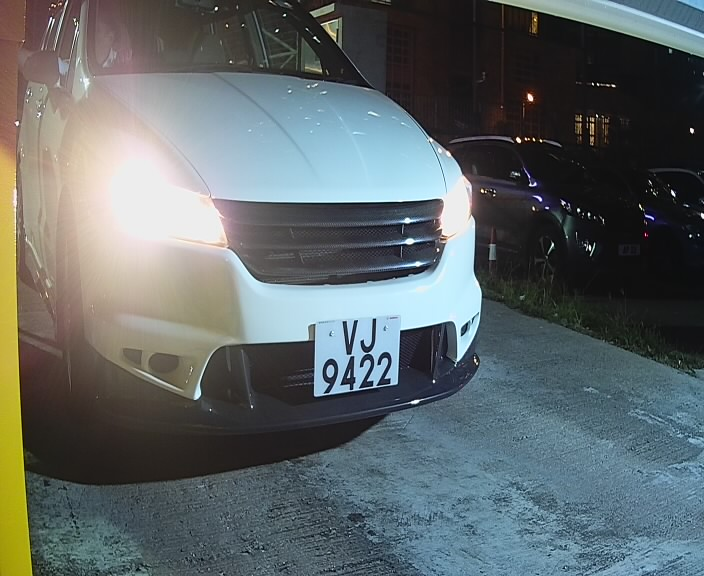Car: (17, 2, 500, 467)
License Plate: (299, 307, 408, 403)
